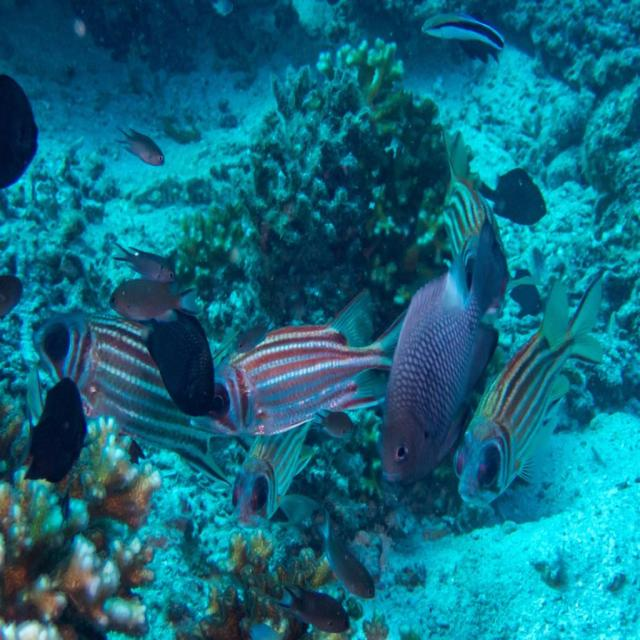Asker Baligi: (450, 244, 630, 588), (202, 294, 412, 454)
